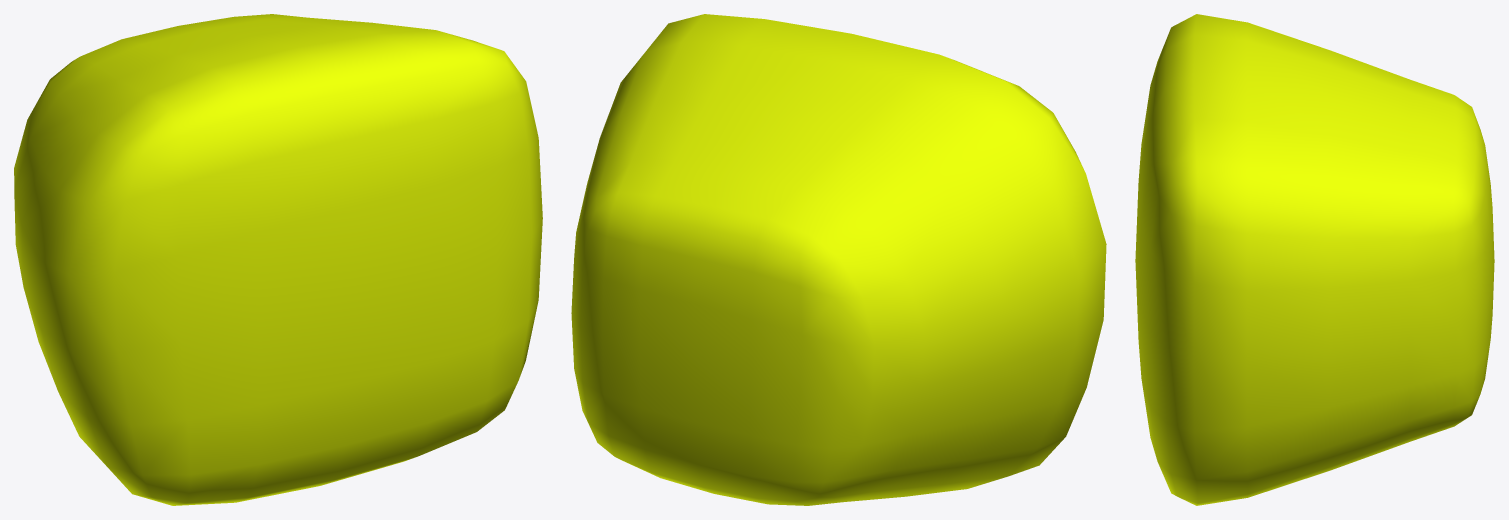
File: MisirTanesi.fbx
The picture shows the model from 3 angles, left to right: view 1: azimuth 30°, elevation 25°; view 2: azimuth 150°, elevation 25°; view 3: azimuth 270°, elevation 25°; orthographic projection. The views are drawn at different scales.
Parts seen in each view (by area): view 1: Misir tanesi; view 2: Misir tanesi; view 3: Misir tanesi.
Part boxes in pixels (x1,y1,x2,y2): Misir tanesi: [14, 14, 542, 505]; Misir tanesi: [571, 14, 1106, 505]; Misir tanesi: [1135, 14, 1494, 505].
Size of the model in its own units: 12.97 by 10.94 by 9.3.
